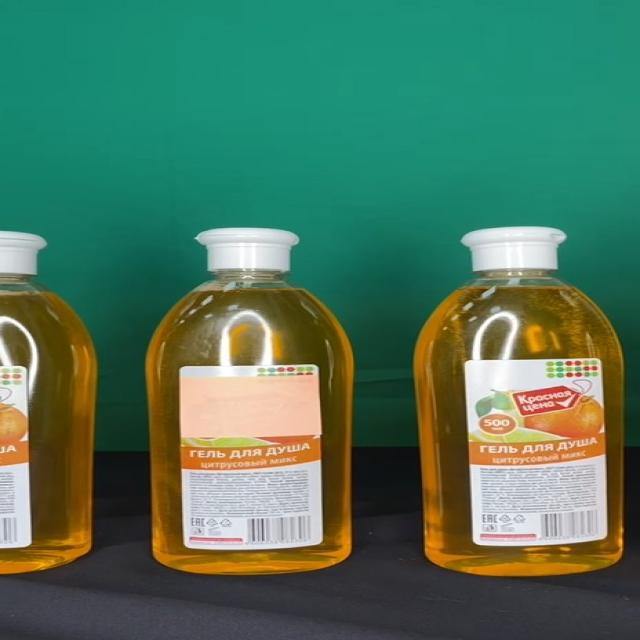Bottle: (414, 227, 625, 577), (147, 228, 354, 575)
Cap: (461, 227, 566, 272), (196, 228, 300, 271)
